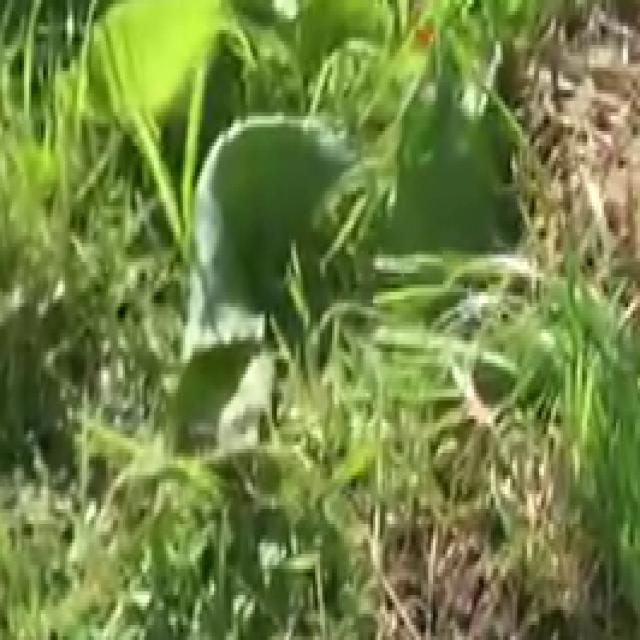organic waste: (10, 0, 515, 464)
